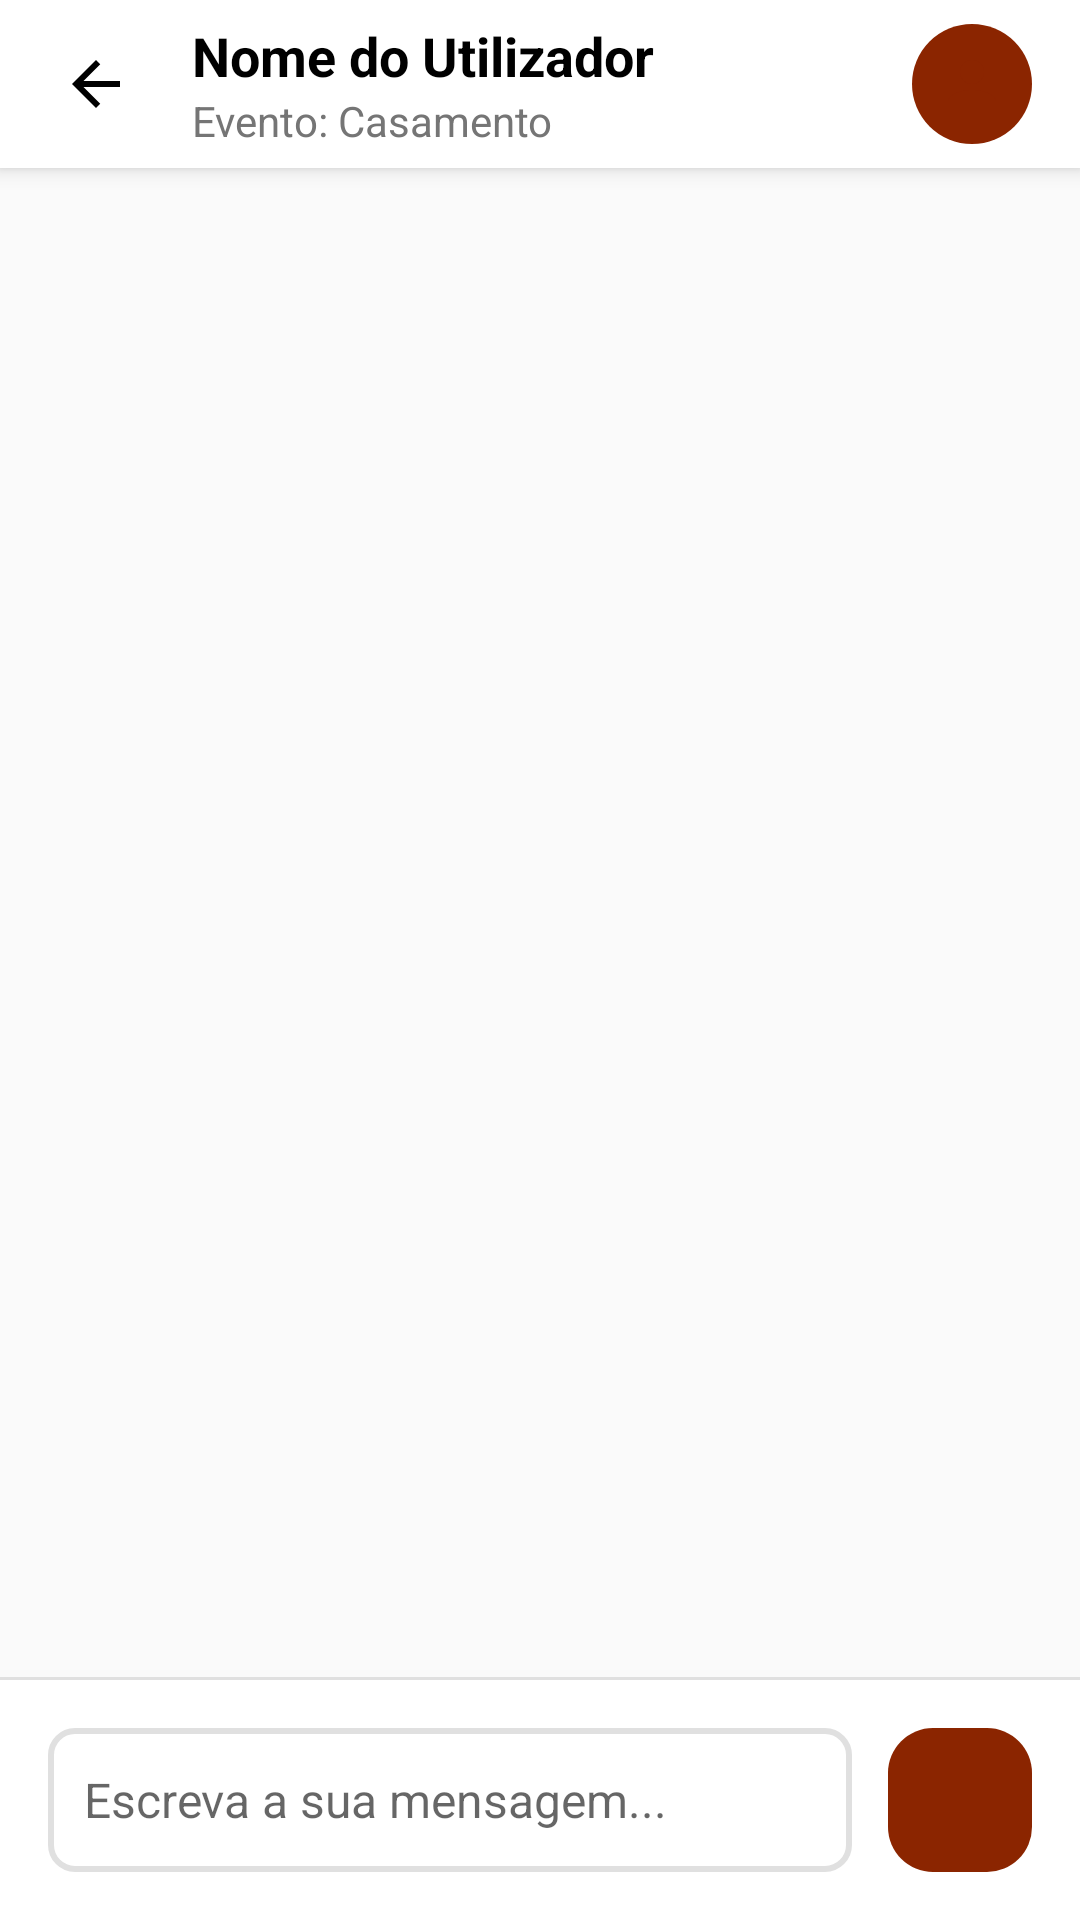

Icons on this 1080x1920 Android screen, each with its box as box=[x1, y1, x2, y2]:
Voltar: box=[72, 60, 120, 108]
